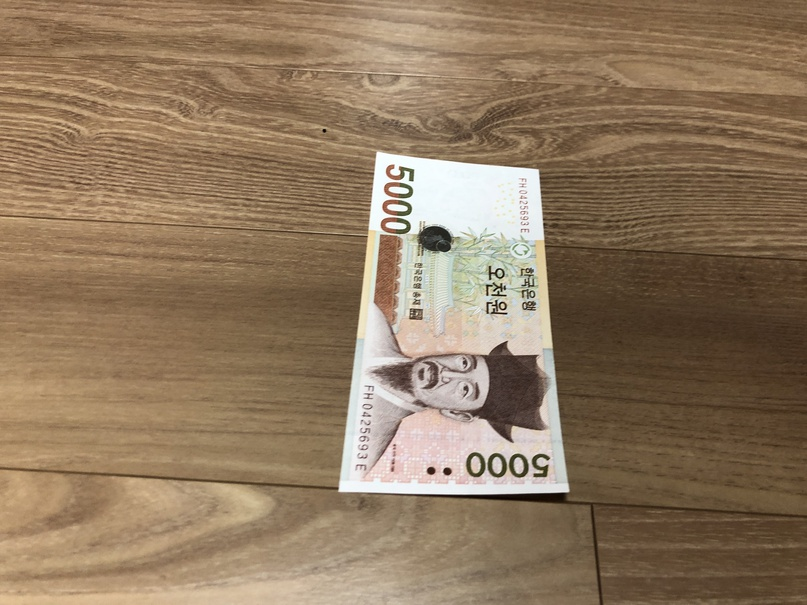5000won: (338, 151, 570, 495)
